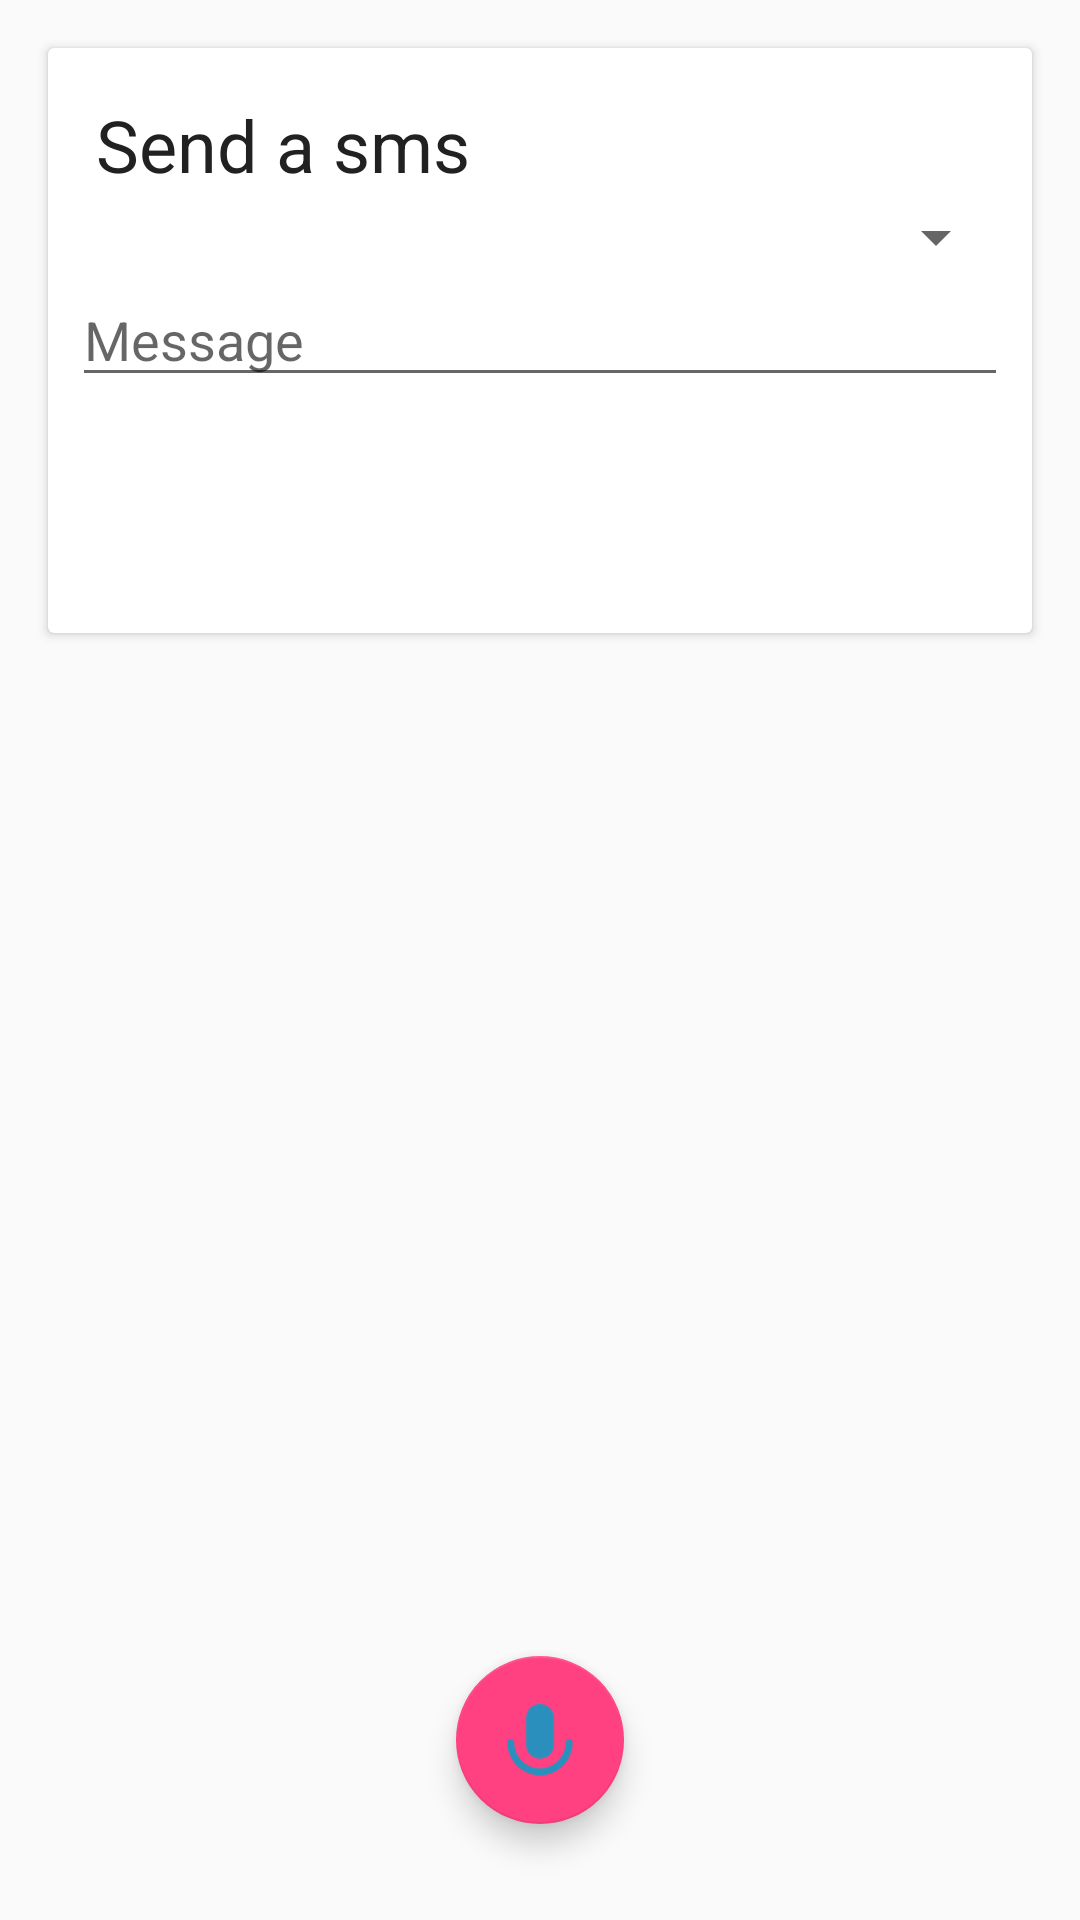

Screen size 1080 x 1920. Icon name, then its center in pixels as [x,y]:
caller id mic: [540,1740]
